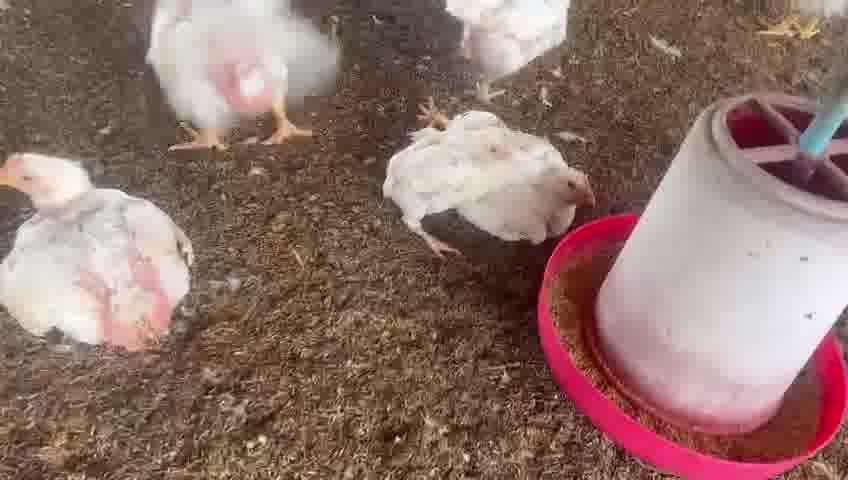AbNormal: (371, 99, 590, 250)
Normal: (0, 144, 189, 349), (136, 0, 335, 166), (442, 0, 580, 106)
